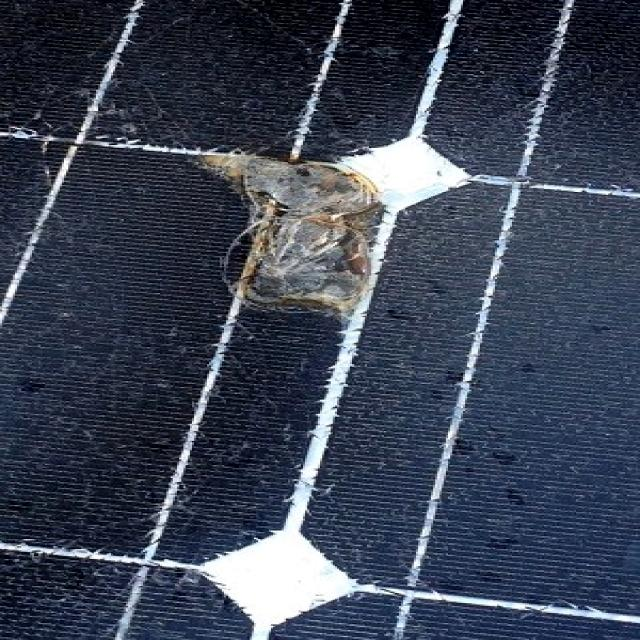shadow: (154, 104, 439, 338)
